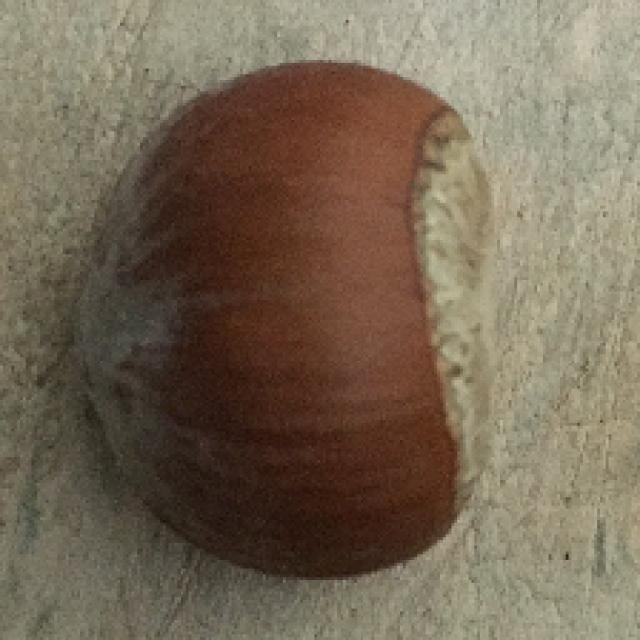qualityHazelnut: (49, 57, 516, 581)
